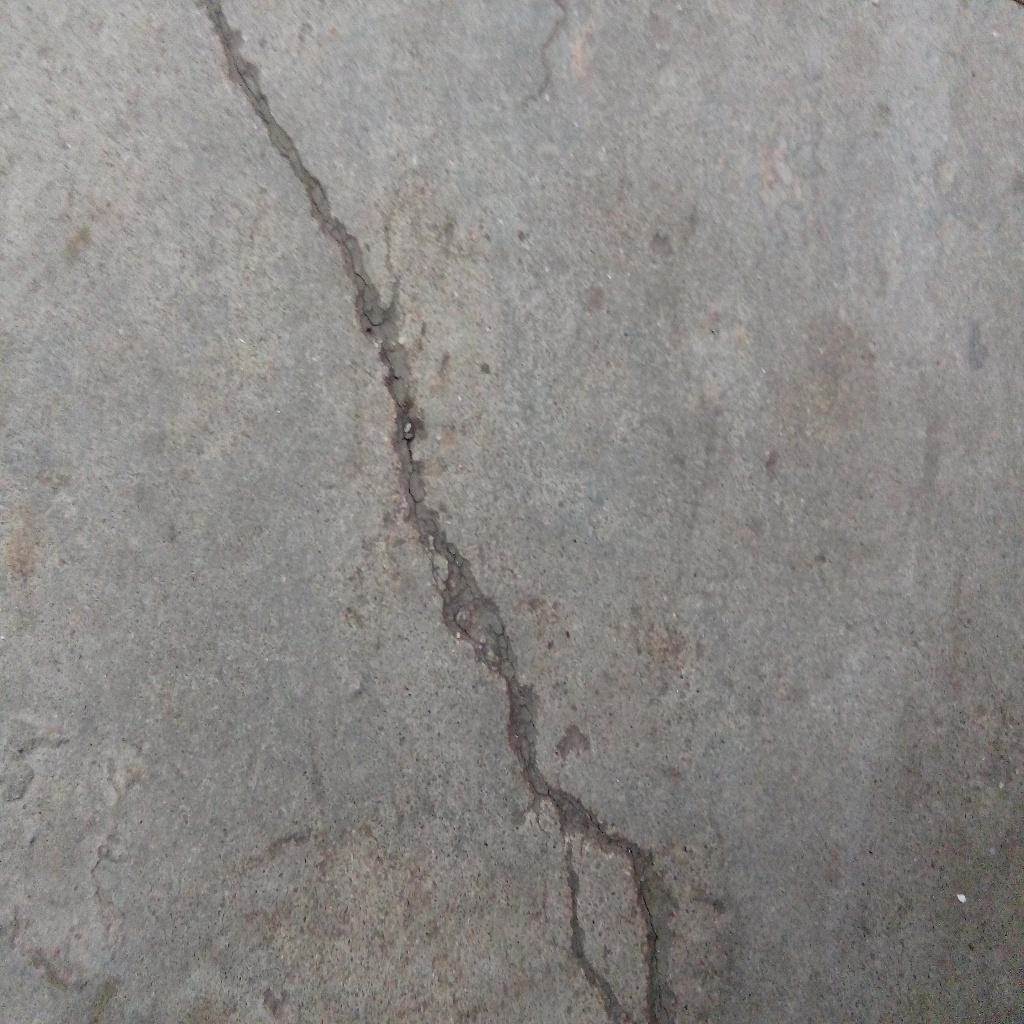Crack: (194, 1, 679, 1024)
